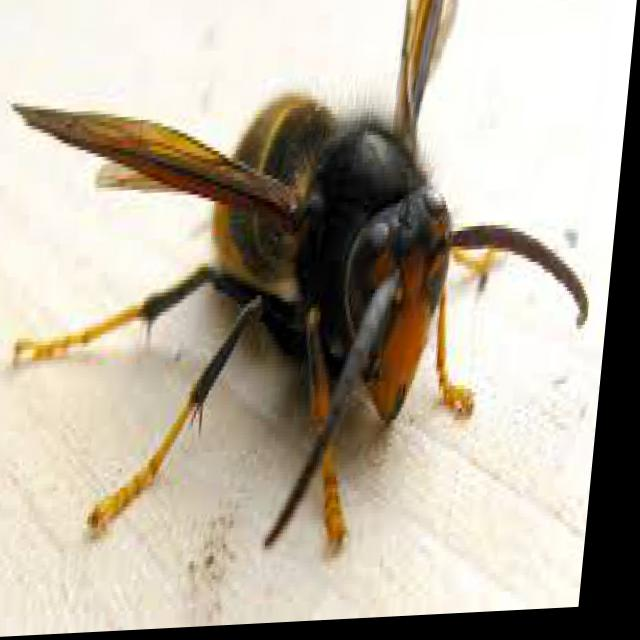Vespa Velutina: (0, 0, 624, 638)
